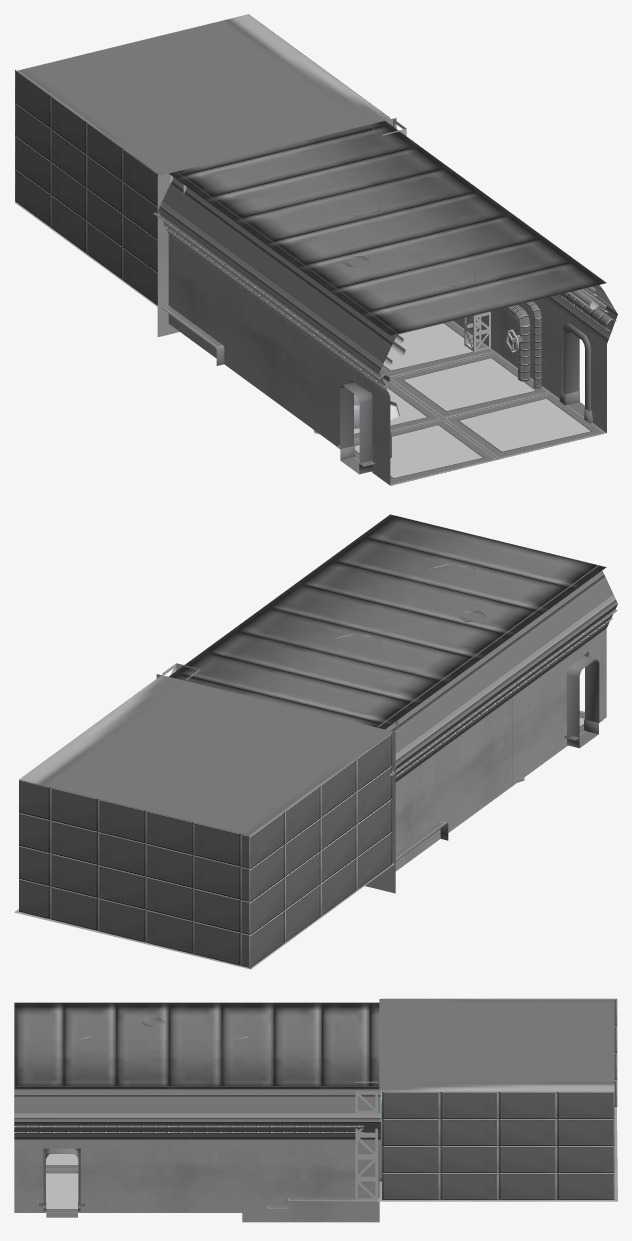
The model's file is MSH_Power_Plant_room_L3_R1_optimized.fbx.
3 renders of one model, top to bottom at view 1: azimuth 30°, elevation 25°; view 2: azimuth 150°, elevation 25°; view 3: azimuth 270°, elevation 25°, orthographic. The views are drawn at different scales.
Visible parts, largest first — view 1: lightmap1, lightmap-1; view 2: lightmap1, lightmap-1; view 3: lightmap1, lightmap-1.
Boxes of the visible parts, box(x1,y1,x2,y2) form: lightmap1: box(14, 14, 617, 485); lightmap-1: box(340, 330, 584, 474); lightmap1: box(14, 514, 617, 969); lightmap-1: box(566, 656, 599, 748); lightmap1: box(14, 998, 617, 1222); lightmap-1: box(46, 1148, 78, 1217).
Bounding box in the file's own units: 10.3 × 6.69 × 27.31.
